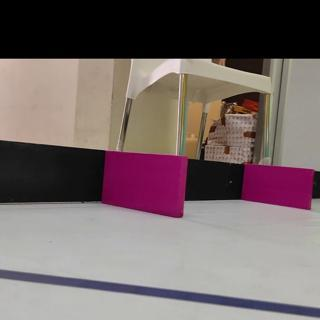xparking: (111, 157, 183, 216), (247, 169, 313, 205)
